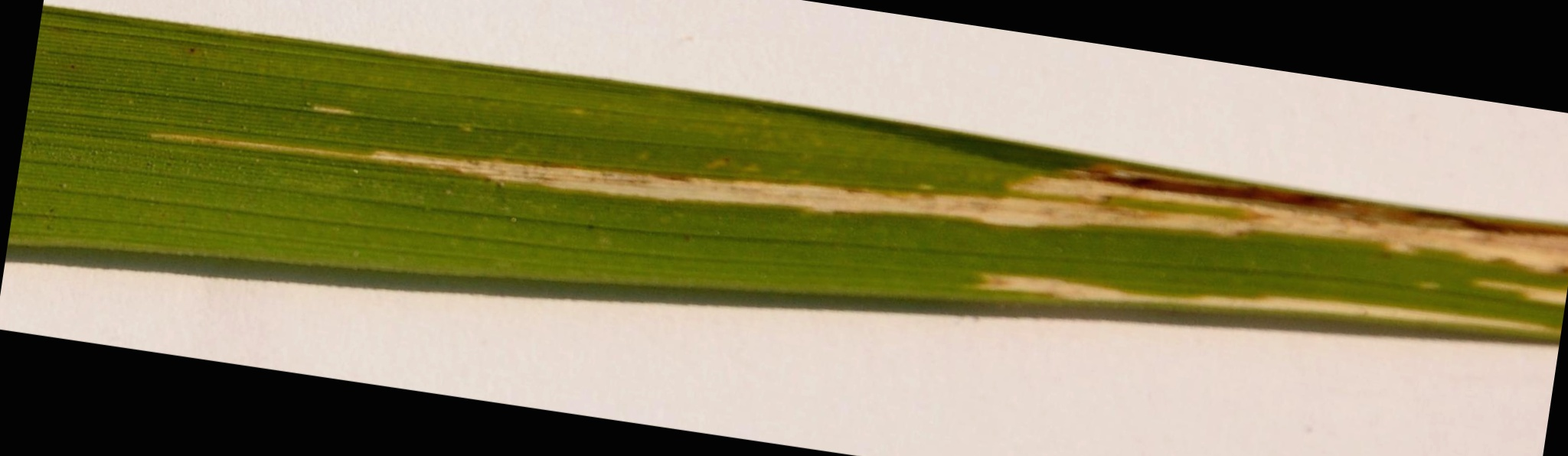Leaf_Blast: (122, 95, 1568, 298)
